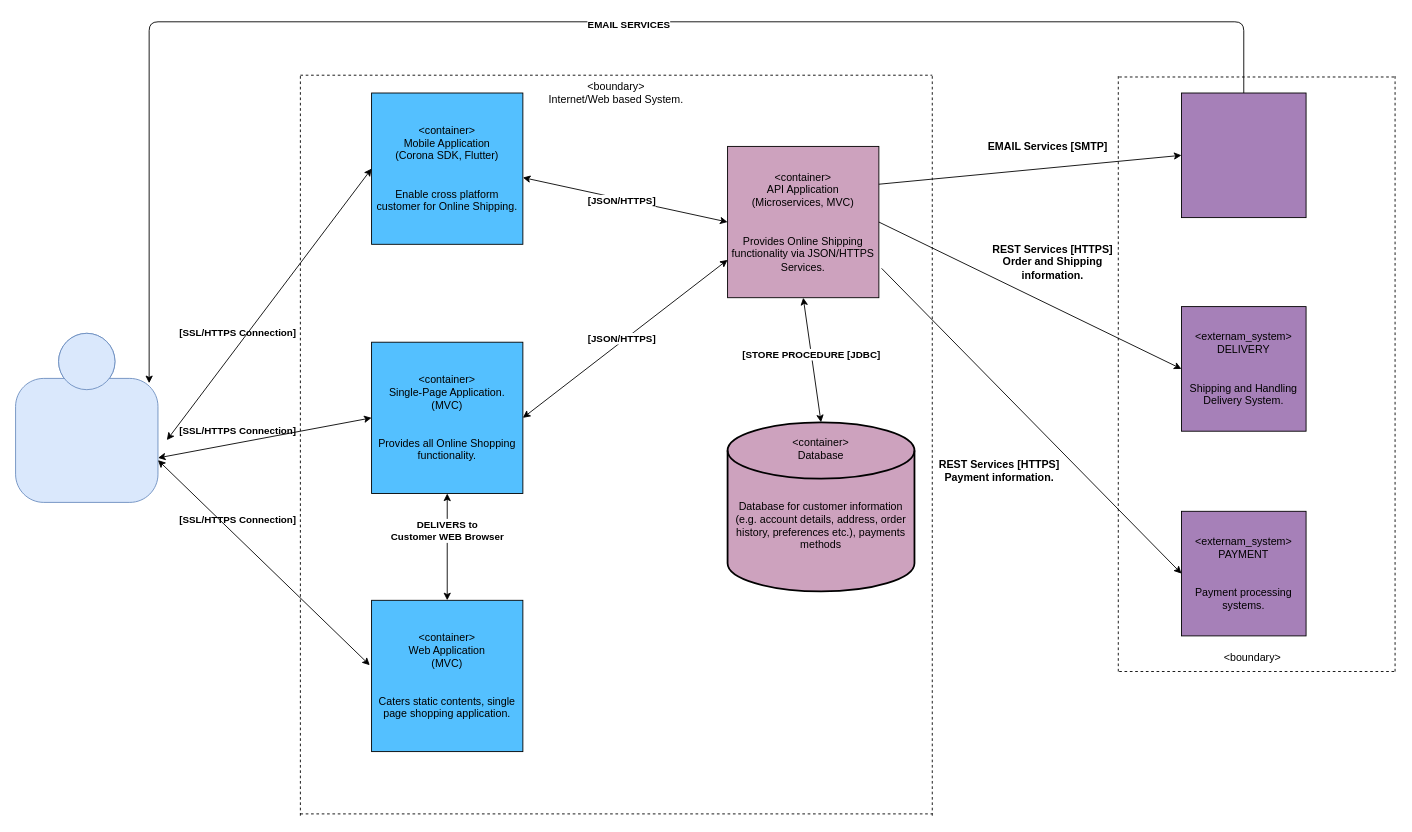
The diagram is 1412 pixels wide and 832 high, and some of its shapes have lost their labels. Here are the shapes that lost their labels. From the top down, the centre of each, then its label:
At [1243,155]: "<externam_system> EMAIL Email notification system..".
At [86,417]: "Customer <Person> A customer of the Online Shopping Application.".
